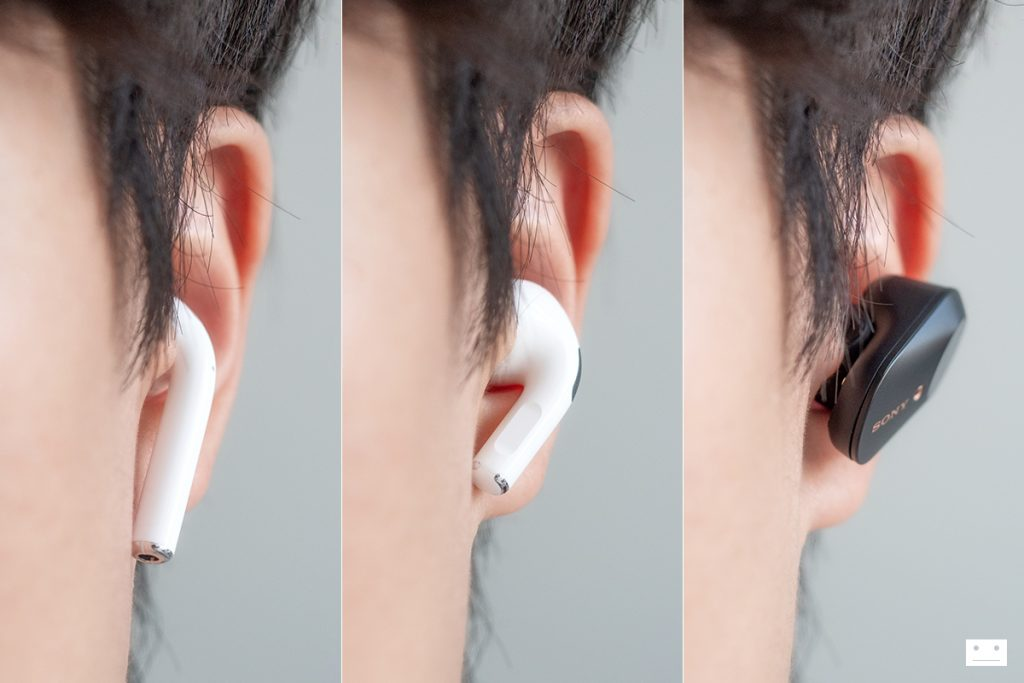earphone: (804, 111, 969, 528), (133, 105, 273, 560), (473, 91, 614, 520)
